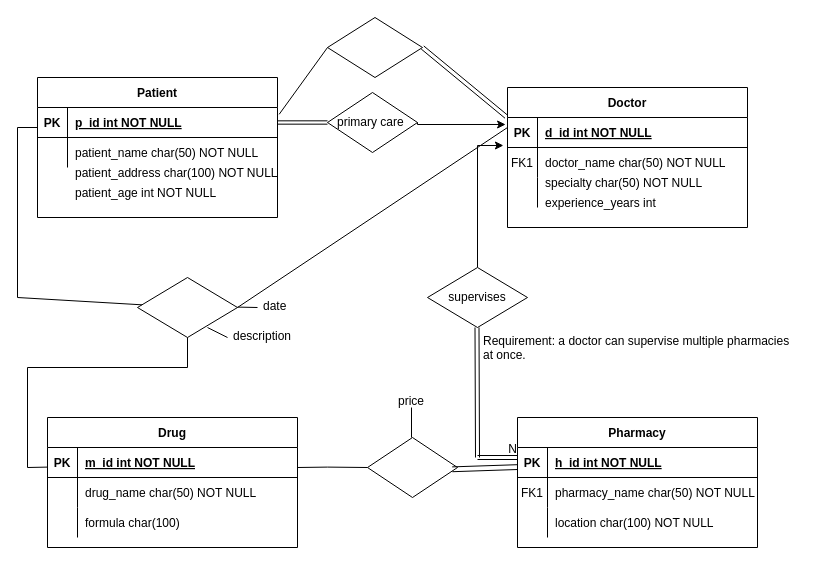
The diagram is 825 pixels wide and 565 high, and some of its shapes have lost their labels. The box of each missing label's shape, as (x1, y1, x2, y2) in pixels:
prescribes: (136, 276, 238, 338)
regular care: (326, 16, 422, 78)
sells: (366, 436, 458, 498)
